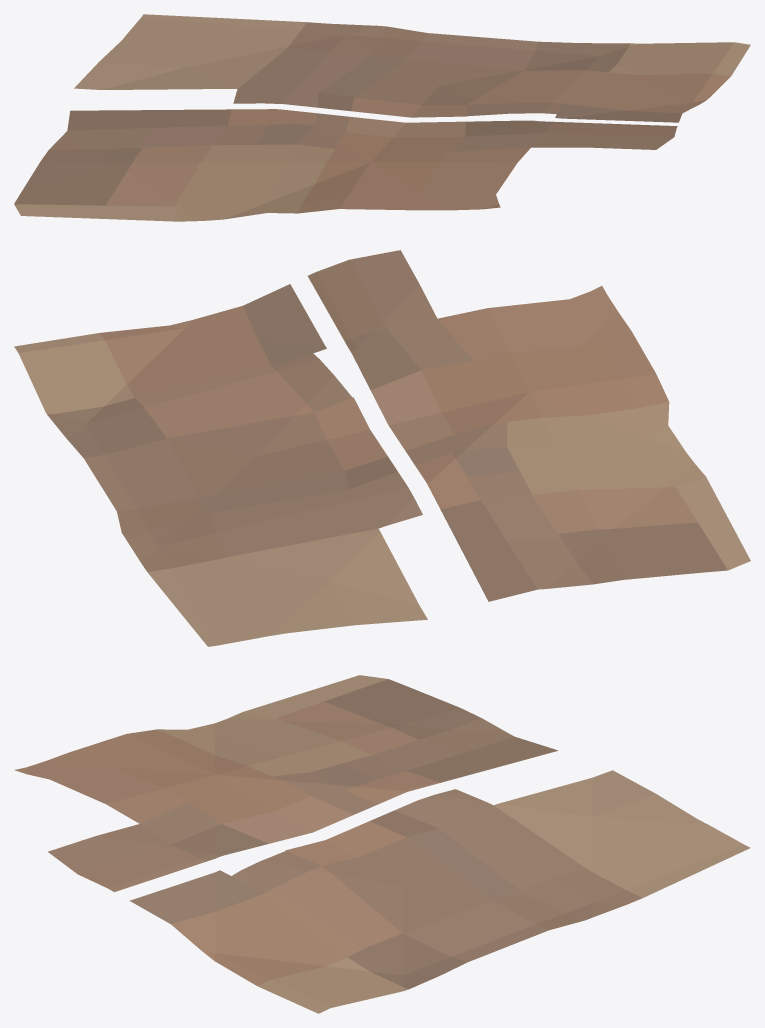
The model's file is farm_-25_-30_soil.glb.
3 views of the same model, one above another, from view 1: azimuth 30°, elevation 25°; view 2: azimuth 150°, elevation 25°; view 3: azimuth 270°, elevation 25° (orthographic). The views are drawn at different scales.
Parts seen in each view (by area): view 1: geometry_0; view 2: geometry_0; view 3: geometry_0.
Boxes of the visible parts, x1,y1,x2,y2 form: geometry_0: (14,14,750,221); geometry_0: (14,250,750,646); geometry_0: (14,675,750,1013).
Size of the model in its own units: 353 by 36.72 by 313.
